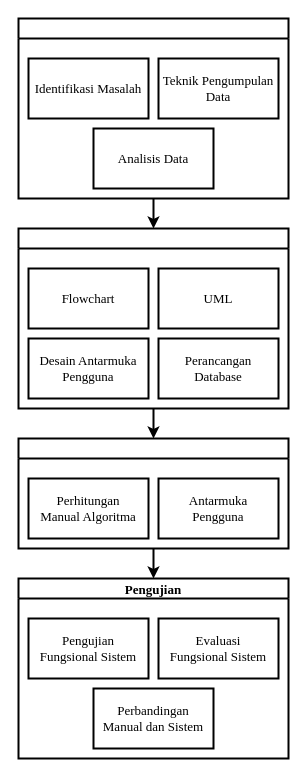
Image size: 306x776. Some labels were removed from this diagram. Here are the shapes that lost their labels. From the top down, the box of each, then its label:
(17, 17, 289, 199): Analisis Kebutuhan
(17, 227, 289, 409): Desain Sistem
(17, 437, 289, 549): Penerapan
